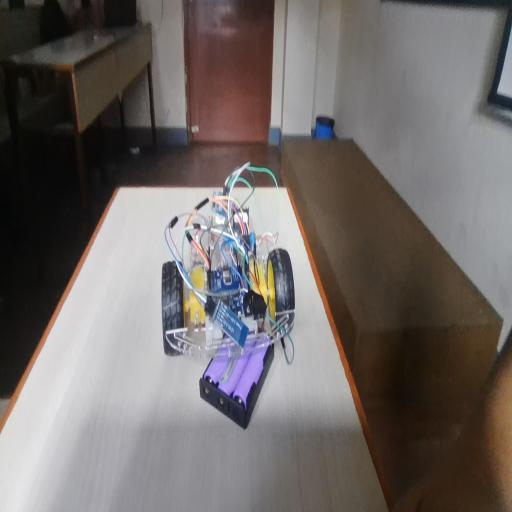car: (164, 155, 317, 439)
